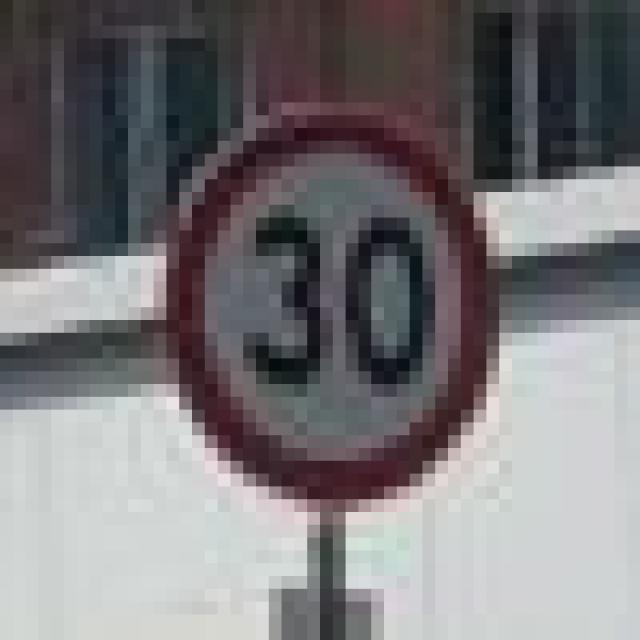SPEED_LIMIT_30: (128, 90, 499, 499)
